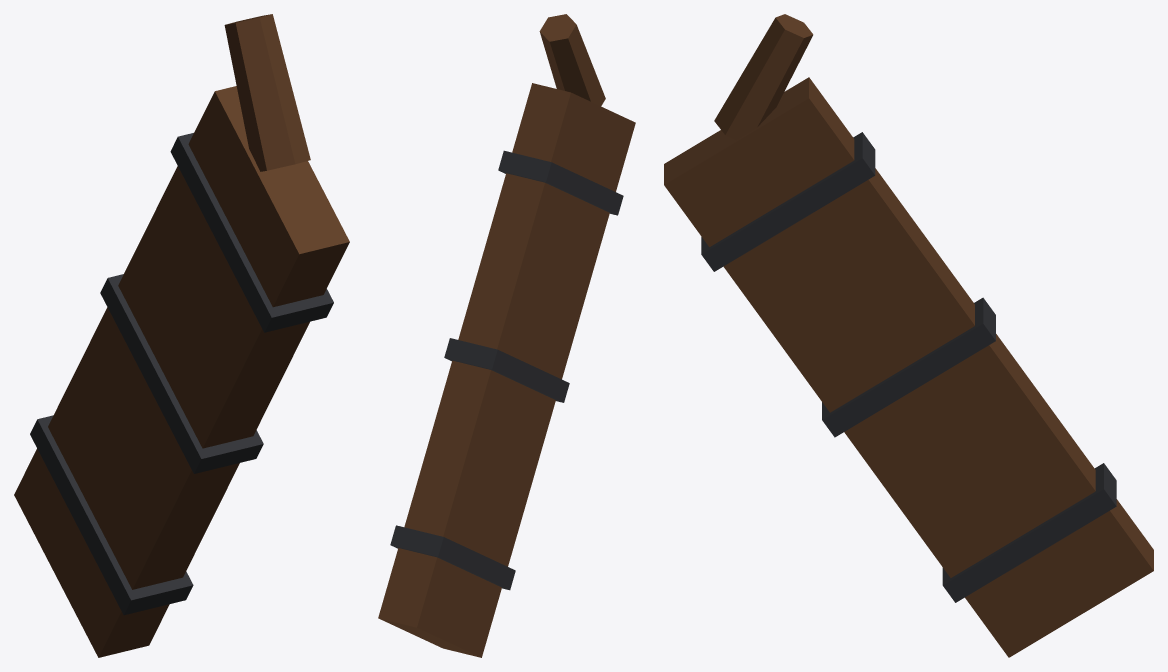
File: amelioration--bouteur.glb
The picture shows the model from 3 angles, left to right: view 1: azimuth 30°, elevation 25°; view 2: azimuth 150°, elevation 25°; view 3: azimuth 270°, elevation 25°; orthographic projection. The views are drawn at different scales.
Parts seen in each view (by area): view 1: bouteur; view 2: bouteur; view 3: bouteur.
Boxes of the visible parts, x1=… form: bouteur: x1=14, y1=14, x2=349, y2=657; bouteur: x1=378, y1=14, x2=635, y2=657; bouteur: x1=664, y1=14, x2=1153, y2=657.
Size of the model in its own units: 0.32 by 3.6 by 2.54.
